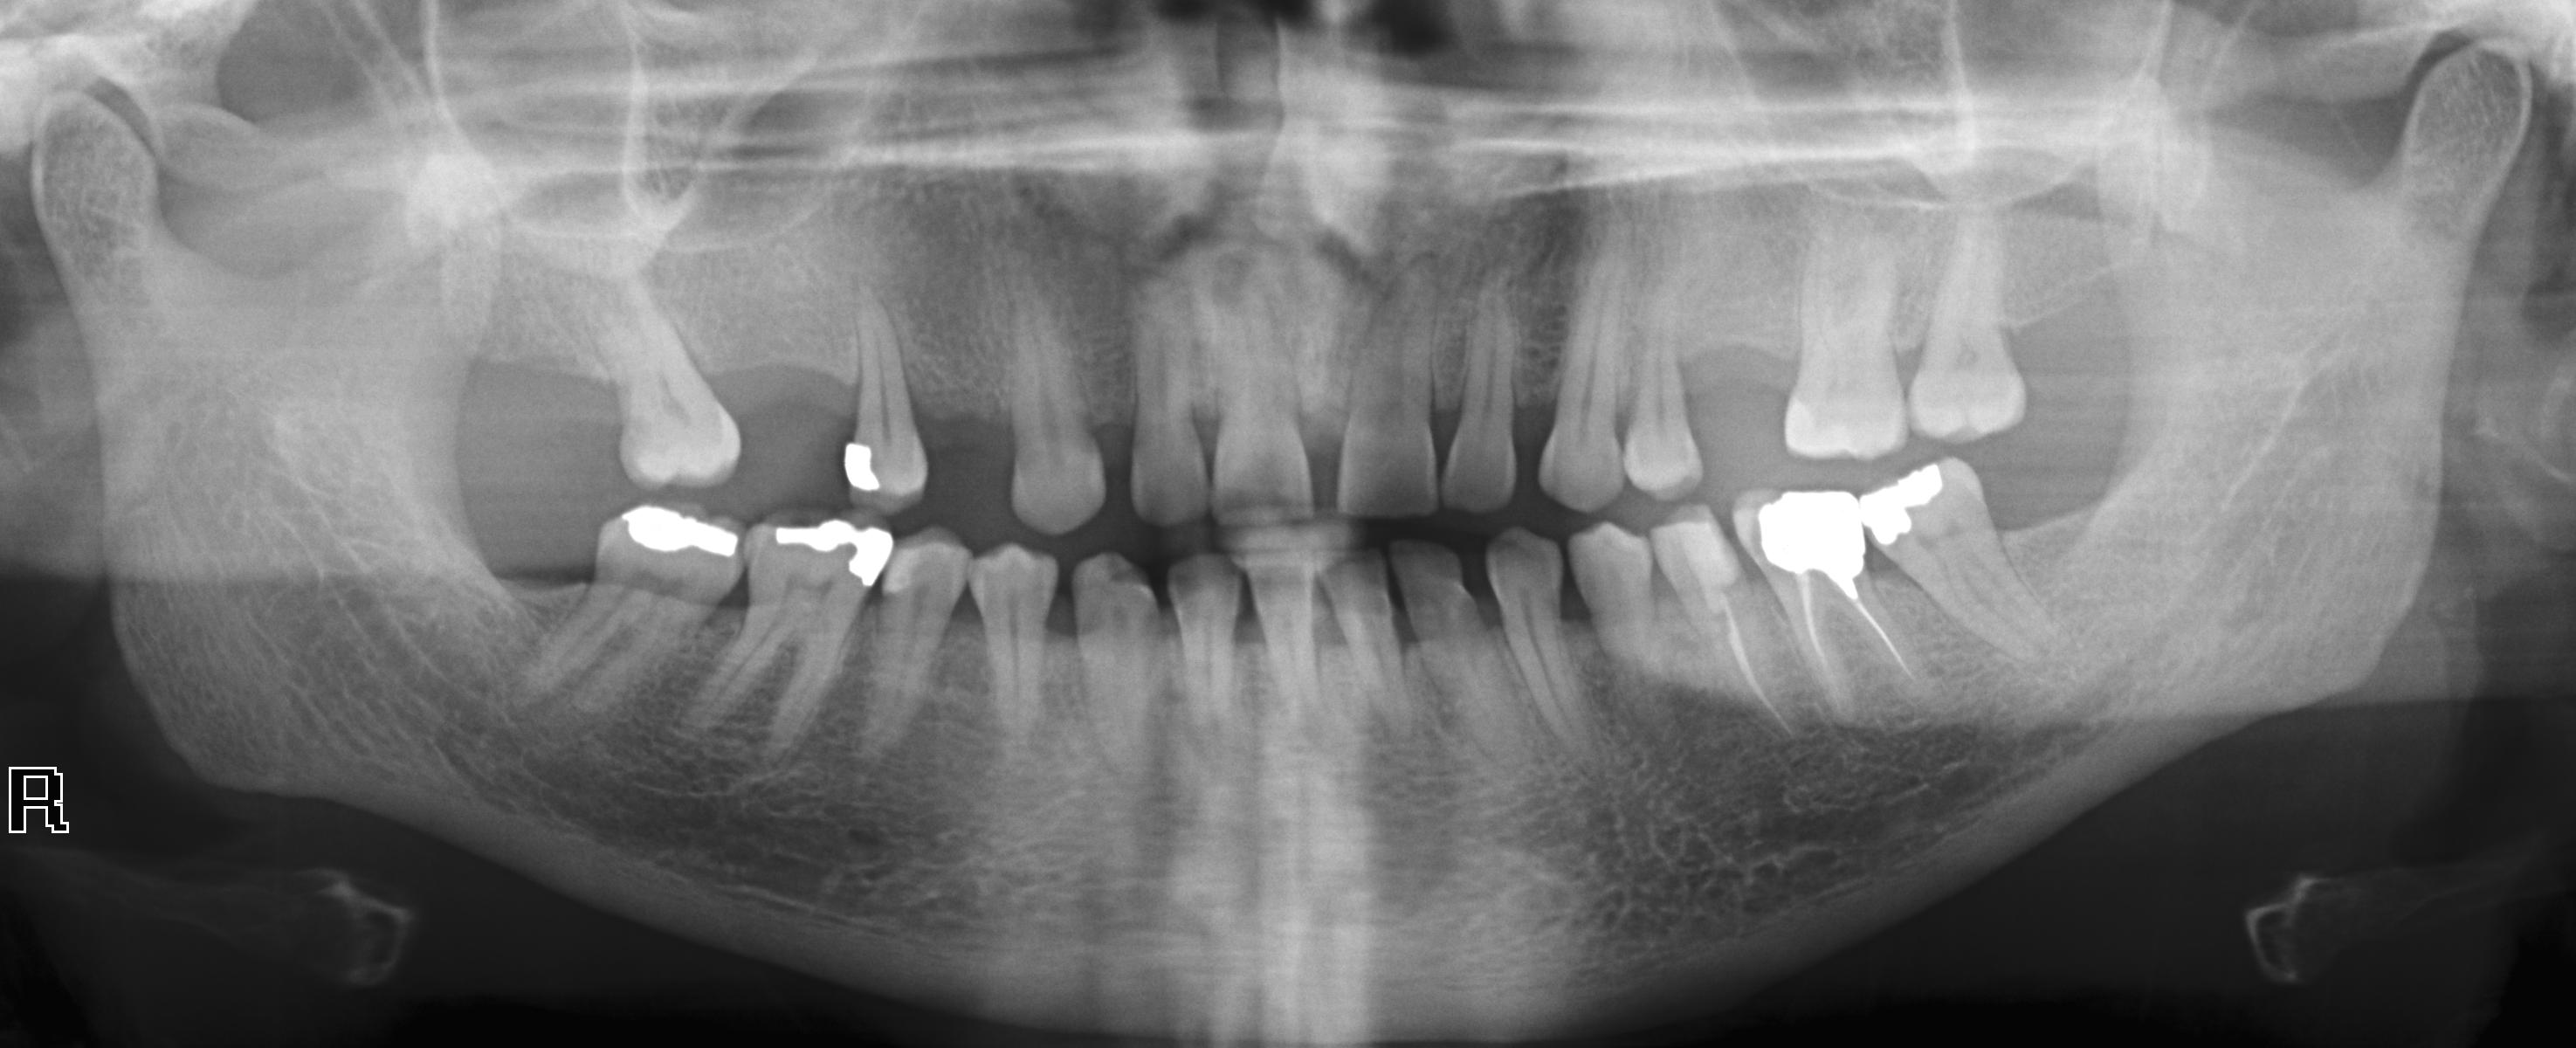Çürük: (769, 498, 900, 593), (1766, 476, 1868, 590), (621, 490, 743, 577), (1863, 450, 1948, 550), (840, 432, 894, 494)
Çürük Bölgesi: (1750, 511, 1769, 578)
